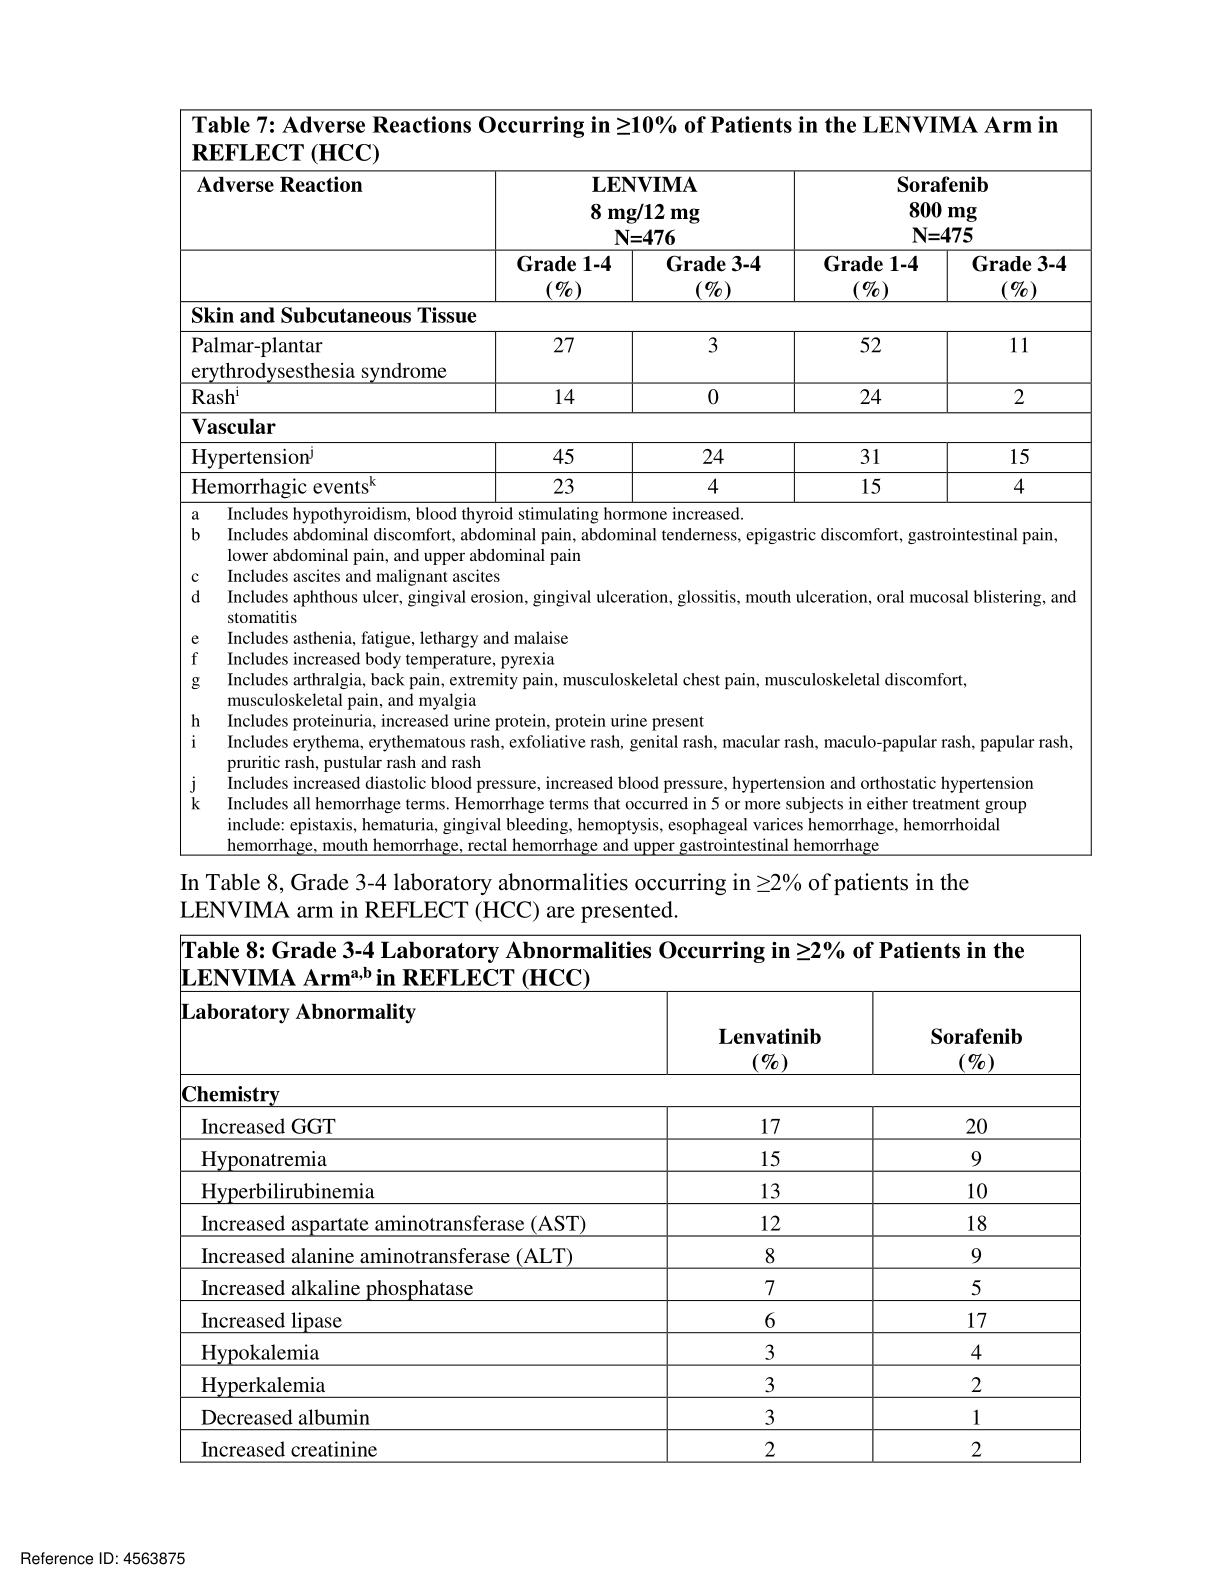partial_lined_merged_cells: (177, 107, 1095, 858), (177, 932, 1085, 1464)
